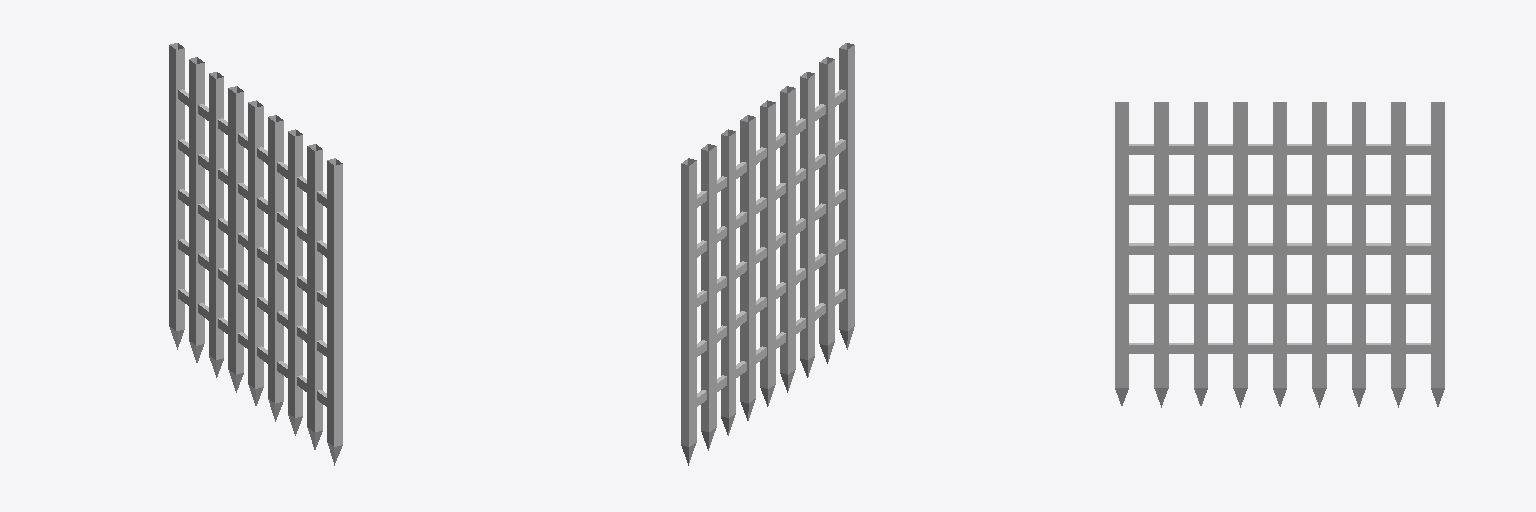
File: gate.obj
3 views of the same model, side by side, from view 1: azimuth 30°, elevation 25°; view 2: azimuth 150°, elevation 25°; view 3: azimuth 270°, elevation 25° (orthographic).
Parts seen in each view (by area): view 1: Cube.002_Cube.001; view 2: Cube.002_Cube.001; view 3: Cube.002_Cube.001.
Boxes of the visible parts, x1,y1,x2,y2 form: Cube.002_Cube.001: [169, 43, 342, 465]; Cube.002_Cube.001: [681, 43, 854, 465]; Cube.002_Cube.001: [1115, 102, 1444, 407].
Size of the model in its own units: 0.1096 by 3.77 by 3.72.